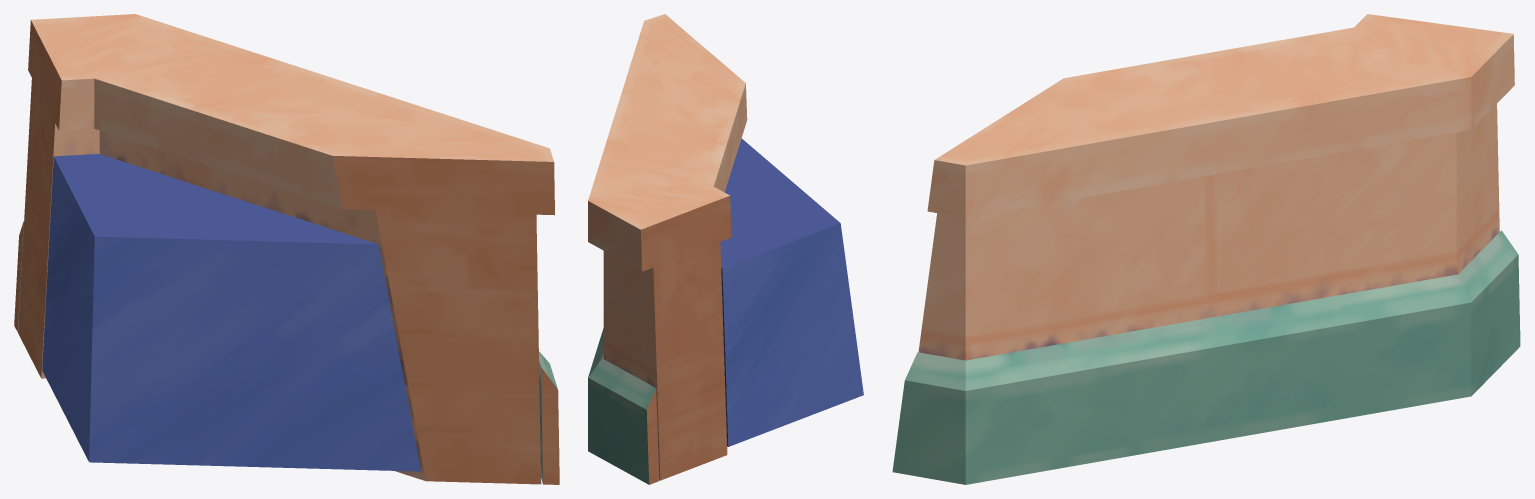
The model's file is vat_indigo_s02.fbx.
3 views of the same model, side by side, from view 1: azimuth 30°, elevation 25°; view 2: azimuth 150°, elevation 25°; view 3: azimuth 270°, elevation 25° (orthographic). The views are drawn at different scales.
Parts seen in each view (by area): view 1: vat_indigo_s02; view 2: vat_indigo_s02; view 3: vat_indigo_s02.
Boxes of the visible parts, bbox=[...] form: vat_indigo_s02: bbox=[14, 14, 559, 484]; vat_indigo_s02: bbox=[588, 14, 863, 484]; vat_indigo_s02: bbox=[892, 14, 1520, 484].
Size of the model in its own units: 2.12 by 1.7 by 3.03.
